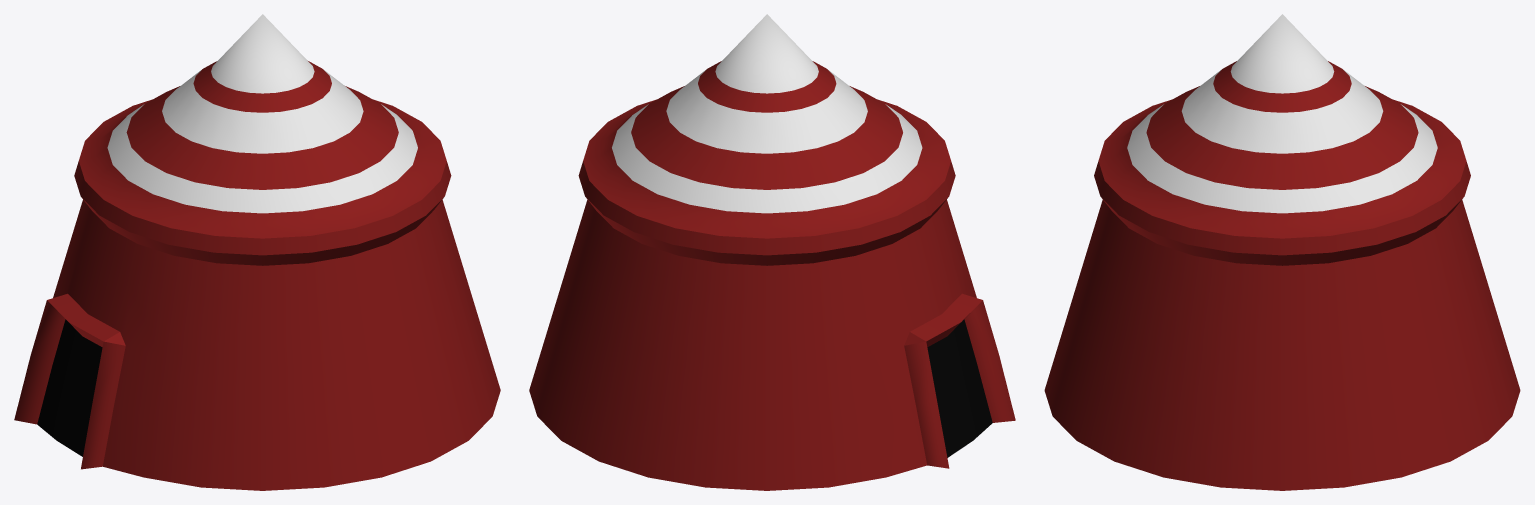
File: Tent Textured.FBX
The picture shows the model from 3 angles, left to right: view 1: azimuth 30°, elevation 25°; view 2: azimuth 150°, elevation 25°; view 3: azimuth 270°, elevation 25°; orthographic projection.
Visible parts, largest first — view 1: Tent; view 2: Tent; view 3: Tent.
Part boxes in pixels (<box>): Tent: <box>14,14,500,490</box>; Tent: <box>529,14,1015,490</box>; Tent: <box>1044,14,1520,490</box>.
Bounding box in the file's own units: 43.64 × 37.67 × 42.67.
3 materials, 3 textured.
